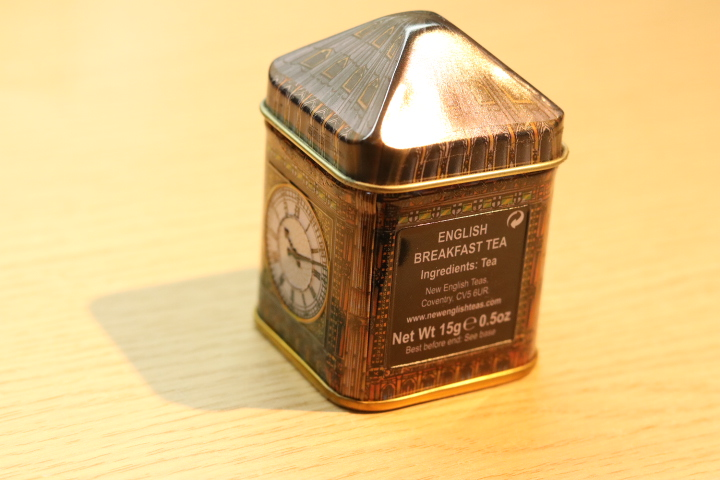Big Ben: (234, 7, 600, 430)
